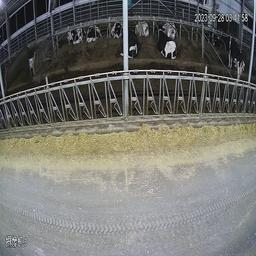cow: (221, 28, 242, 81), (156, 24, 175, 58), (108, 19, 124, 42), (65, 28, 84, 47), (87, 23, 103, 44), (136, 15, 149, 38), (164, 19, 178, 40), (206, 26, 220, 46)
